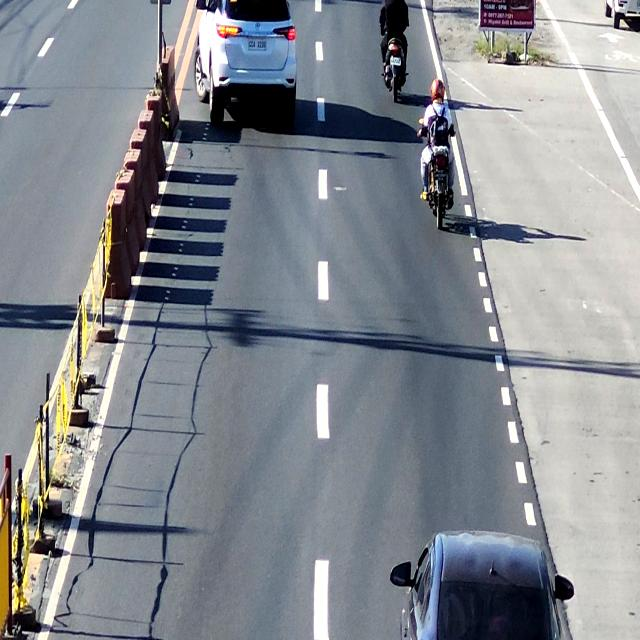Car: (399, 523, 550, 640), (193, 0, 296, 118)
License-Plate: (248, 34, 271, 53), (388, 55, 402, 67)
Motorcycle: (419, 79, 454, 237), (381, 0, 410, 106)
